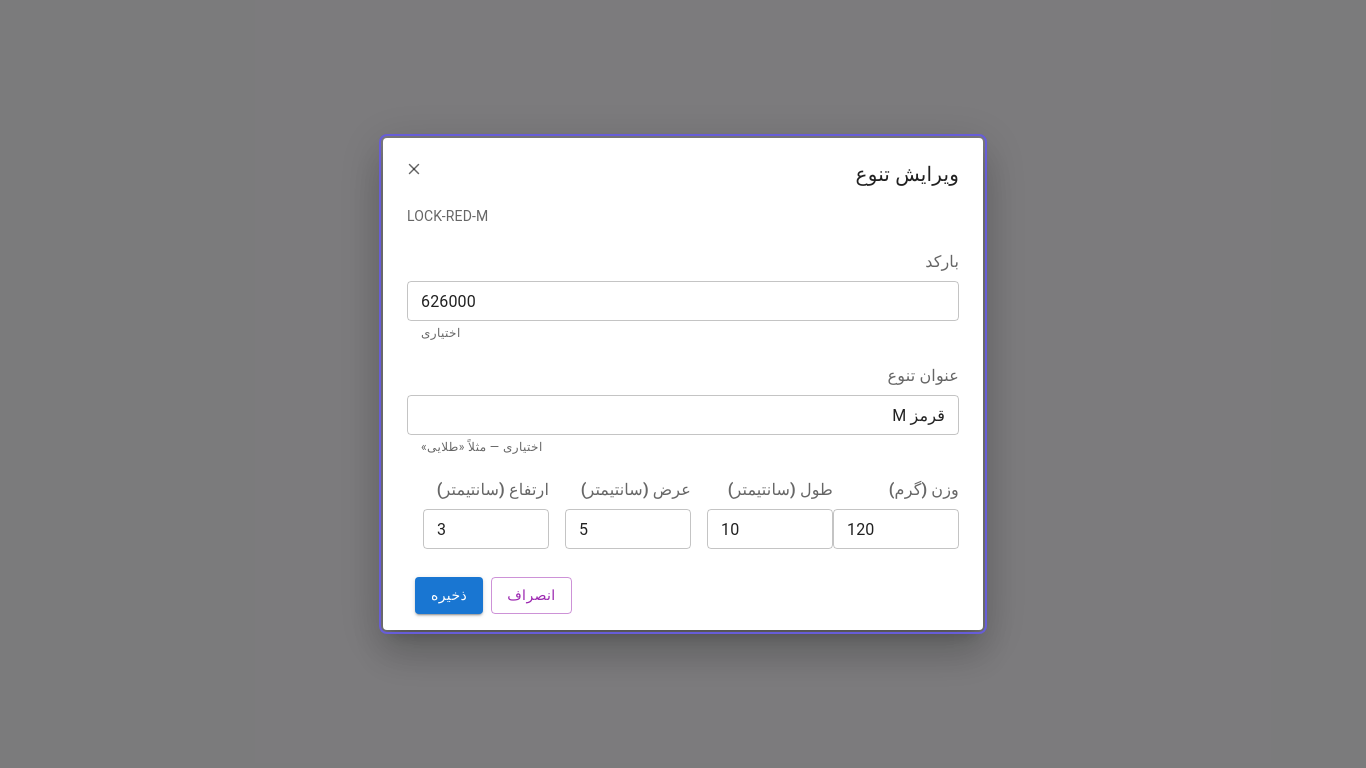
VariantEditDialog › shows a validation error for numbers longer than ten digits
Replace the text in the field labelled "وزن (گرم)" with "12345678901" at x=896, y=529, box [833,509,959,549]
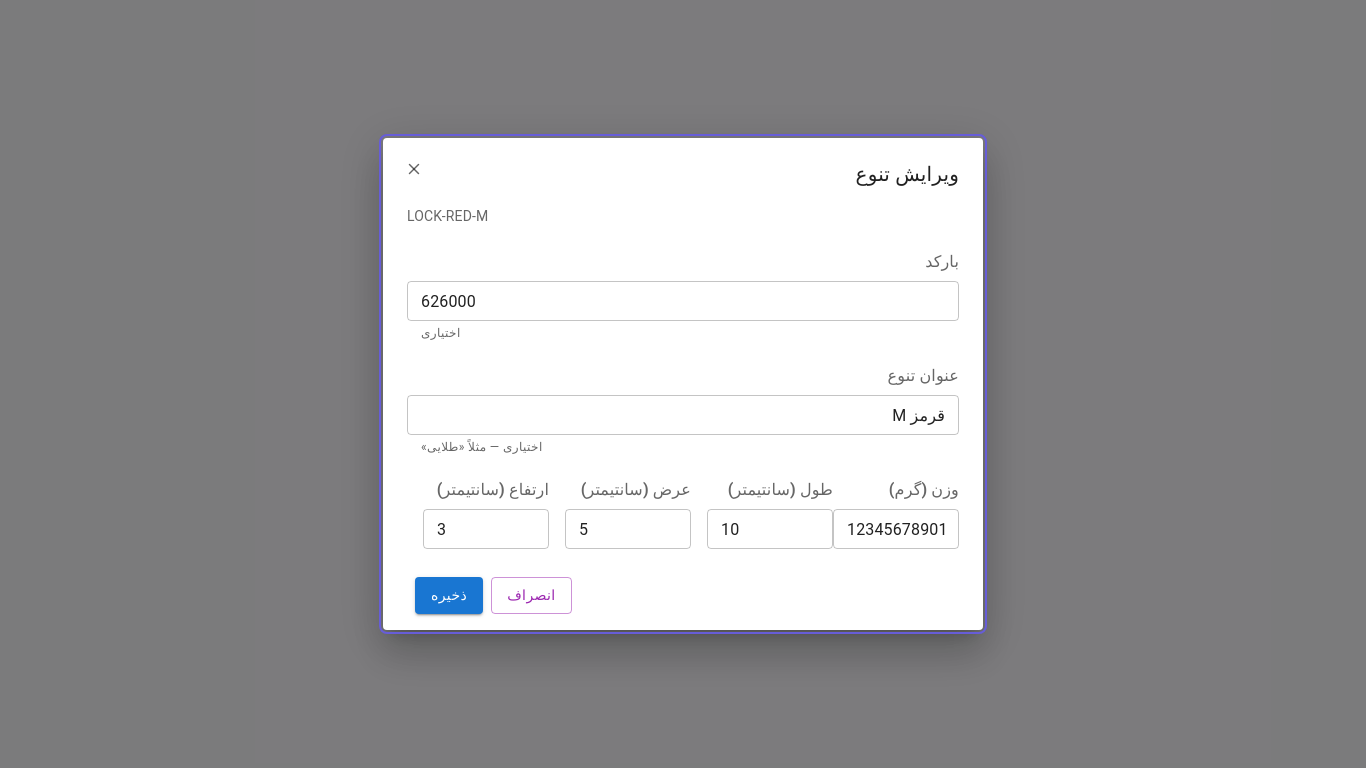
Click the button "ذخیره" at x=449, y=595, box [415,577,483,614]
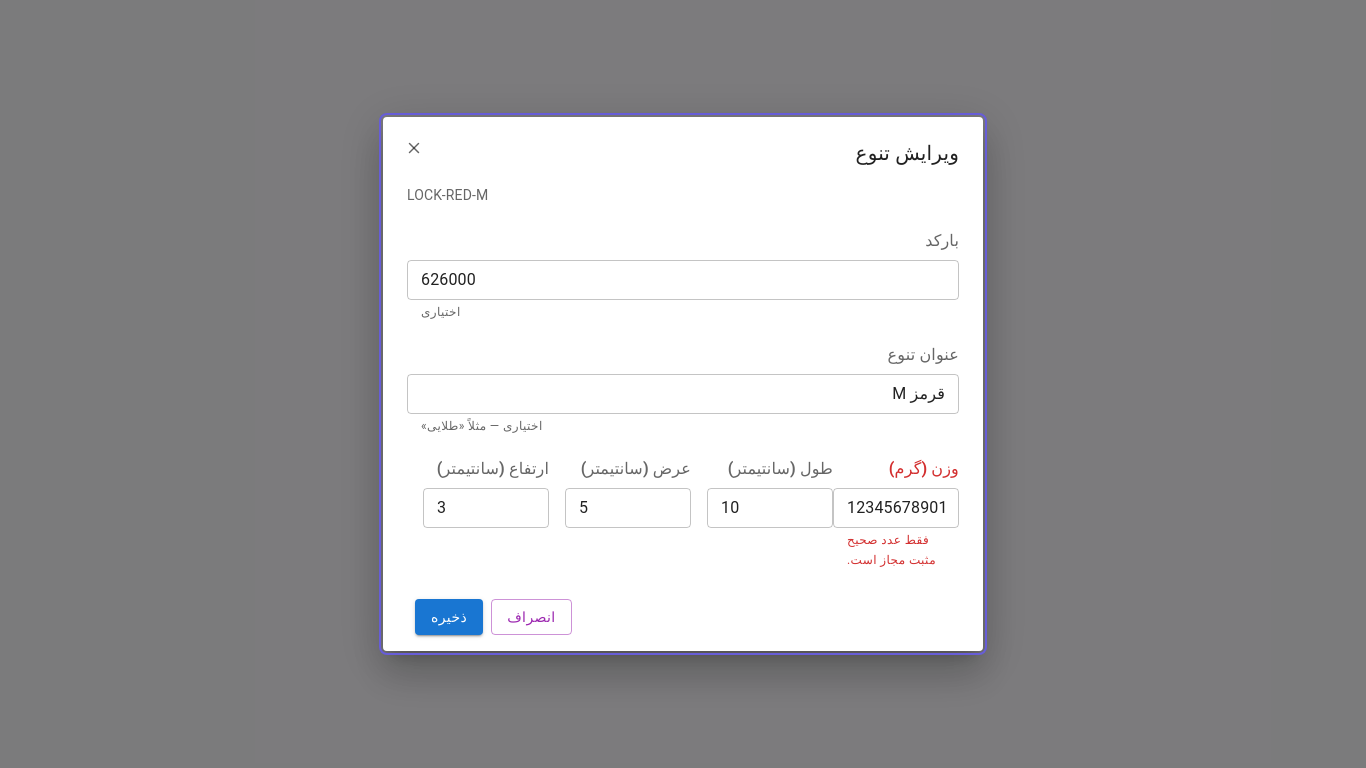
Result: the text "فقط عدد صحیح مثبت مجاز است." is shown at [847,531,945,571]
